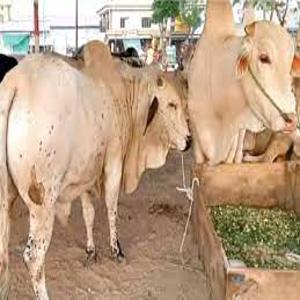lumpy skin diesease: (0, 38, 191, 299), (184, 0, 299, 167)
